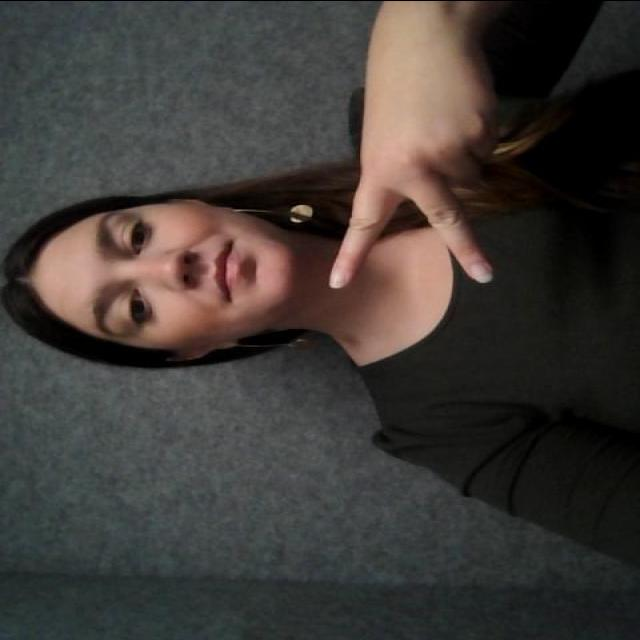Scissors: (318, 7, 576, 316)
